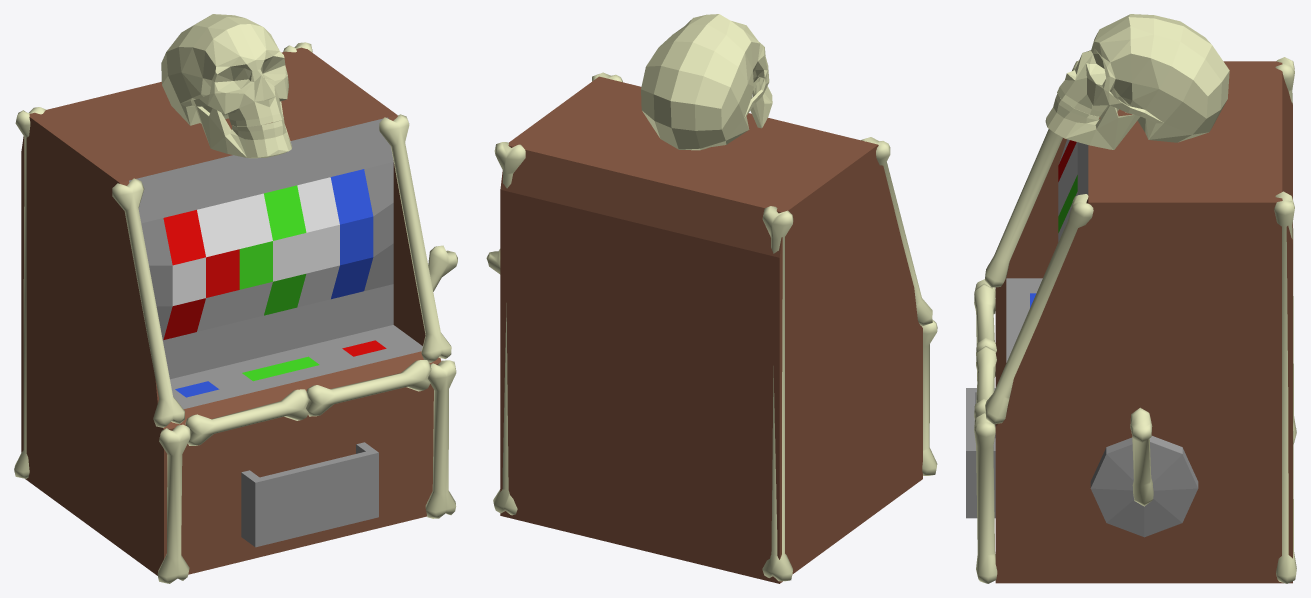
Rendered from pruebamaquina.fbx.
3 views of the same model, side by side, from view 1: azimuth 30°, elevation 25°; view 2: azimuth 150°, elevation 25°; view 3: azimuth 270°, elevation 25° (orthographic). The views are drawn at different scales.
Visible parts, largest first — view 1: MAQUINA; view 2: MAQUINA; view 3: MAQUINA.
Boxes of the visible parts, x1,y1,x2,y2 form: MAQUINA: (14,14,457,583); MAQUINA: (486,14,937,583); MAQUINA: (966,14,1296,583).
Size of the model in its own units: 0.8372 by 1.02 by 0.6147.
